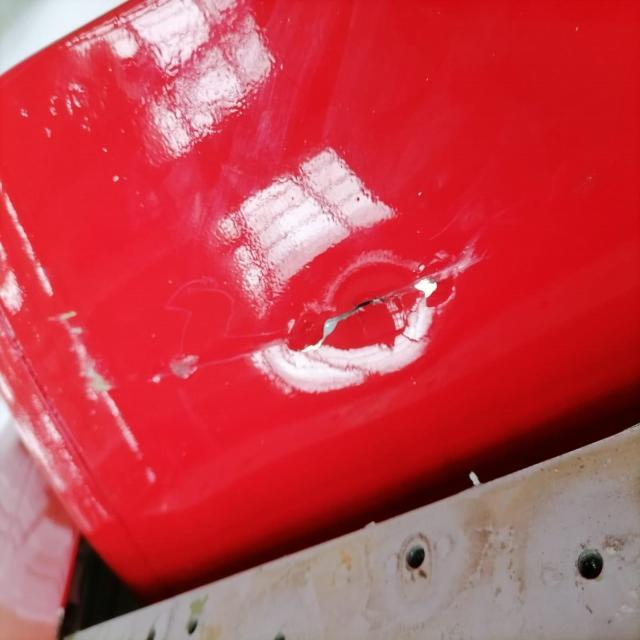crack: (207, 264, 497, 378)
